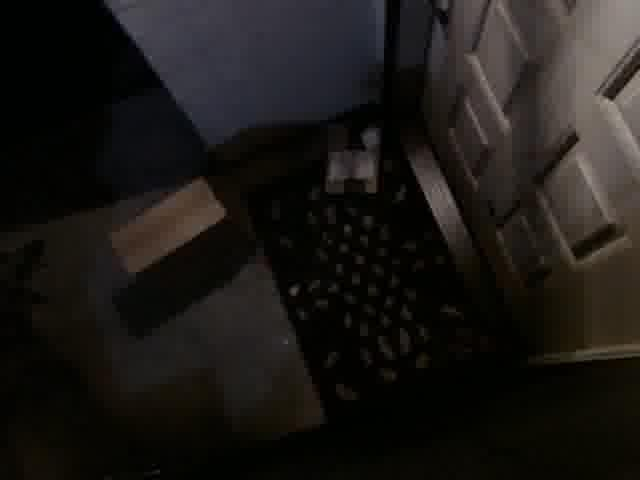box: (103, 171, 249, 300), (318, 114, 382, 197)
